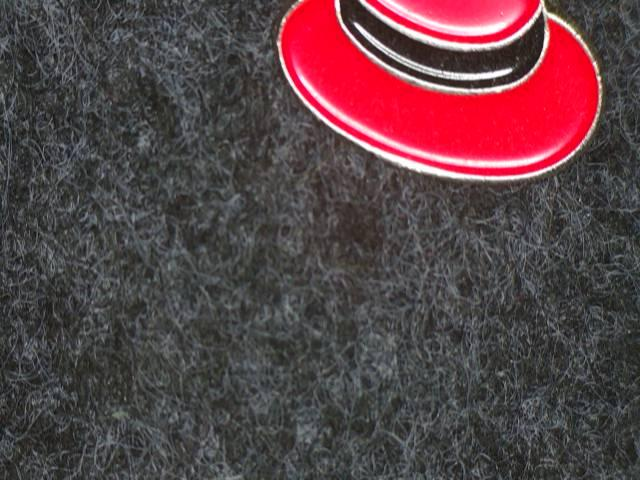Red-Hat: (258, 0, 622, 216)
